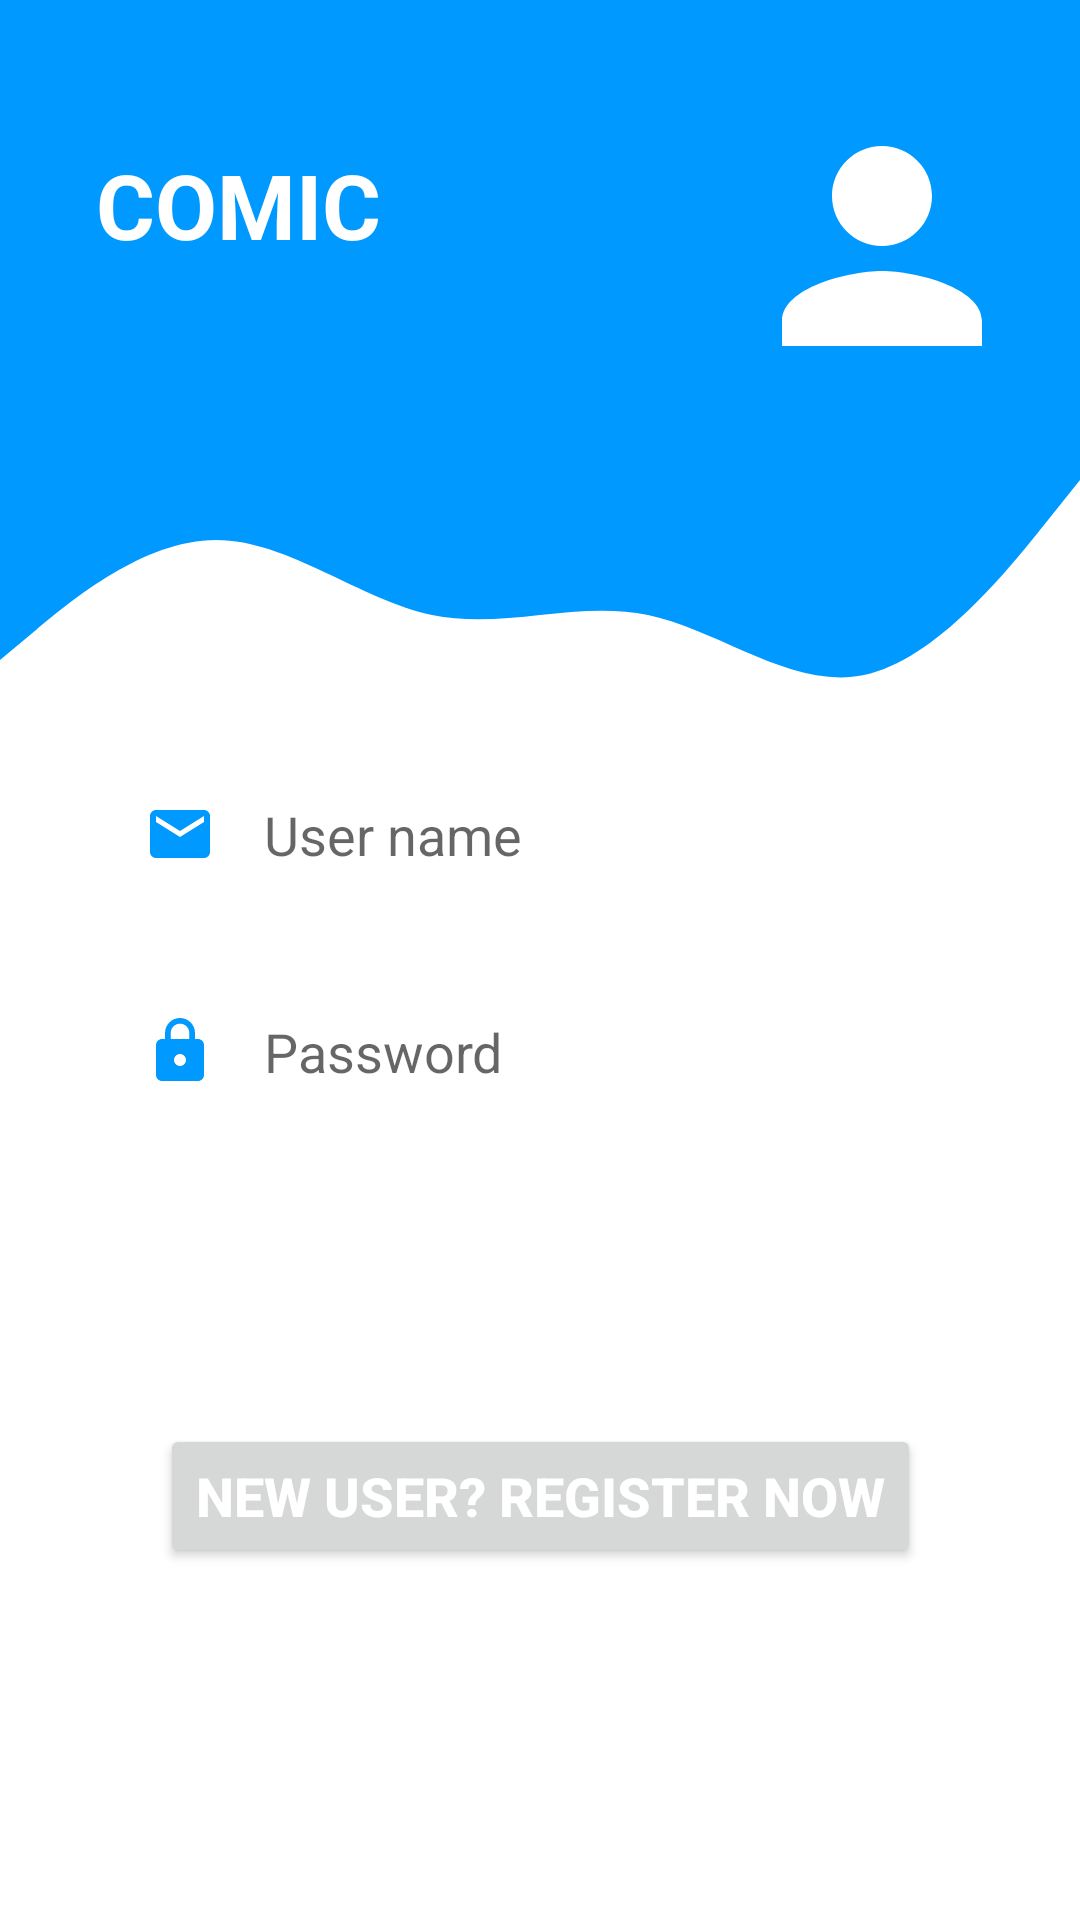

Screen size 1080*1920. Icon name, then its center in pixels as [x,y]:
person: [882,246]
